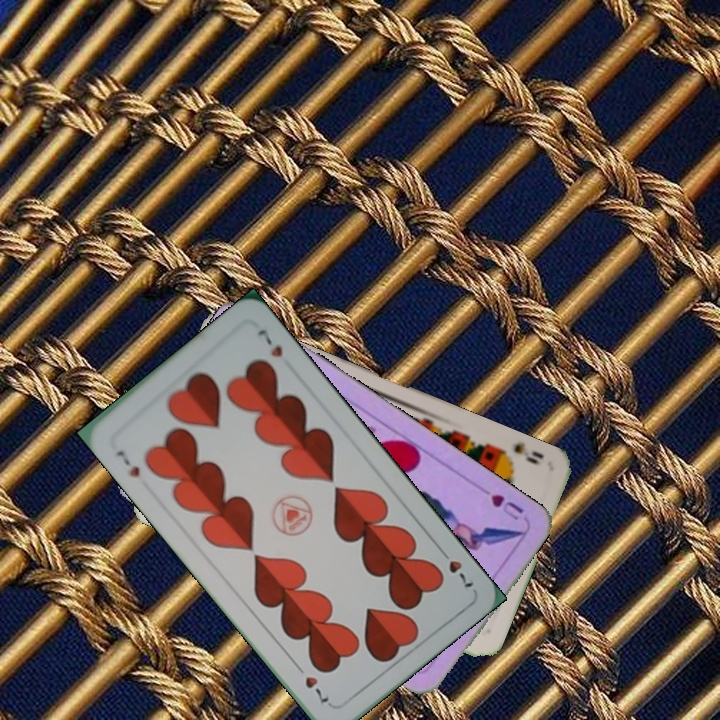H7: (434, 542, 477, 590), (112, 446, 143, 480)
HU: (486, 490, 526, 524)
S9: (492, 439, 547, 467)
